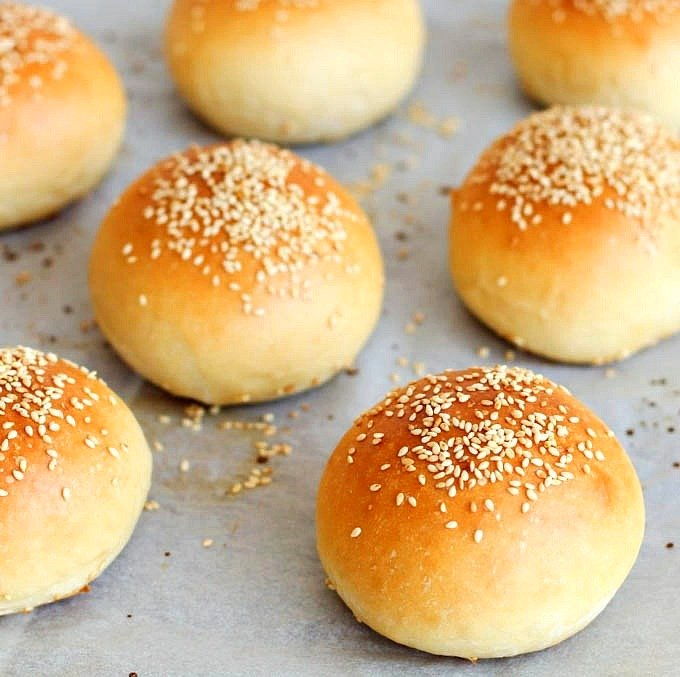hamburger_buns: (336, 342, 639, 677), (427, 112, 680, 361), (106, 135, 369, 372), (1, 341, 182, 585)
